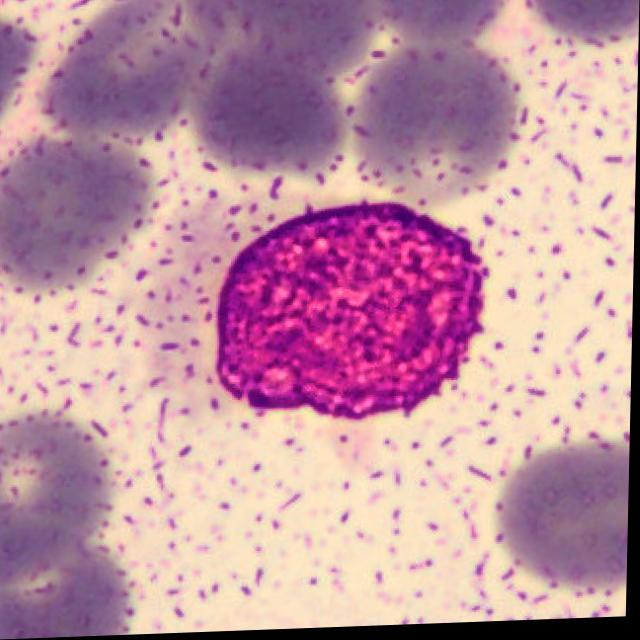Restos celulares: (215, 203, 489, 422)
